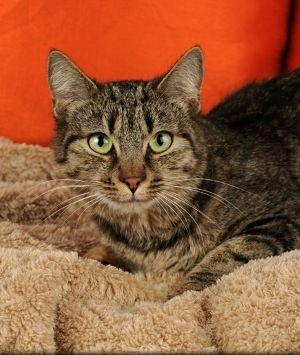bengal: (41, 43, 214, 222)
